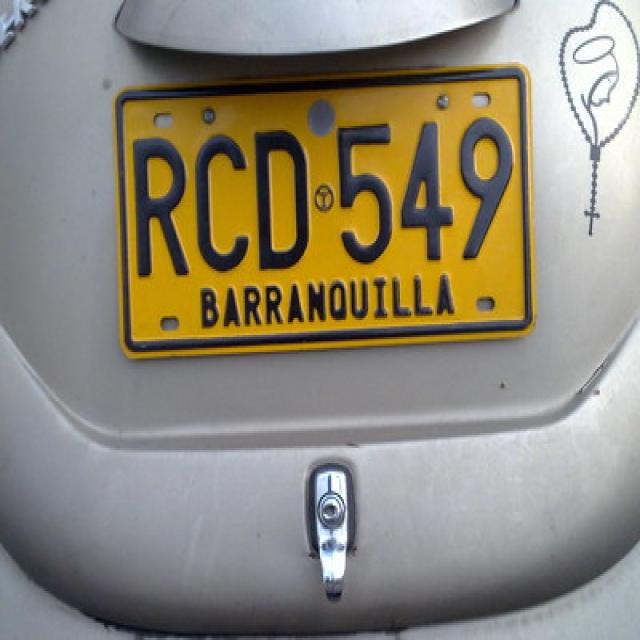placa_carro: (117, 52, 534, 370)
